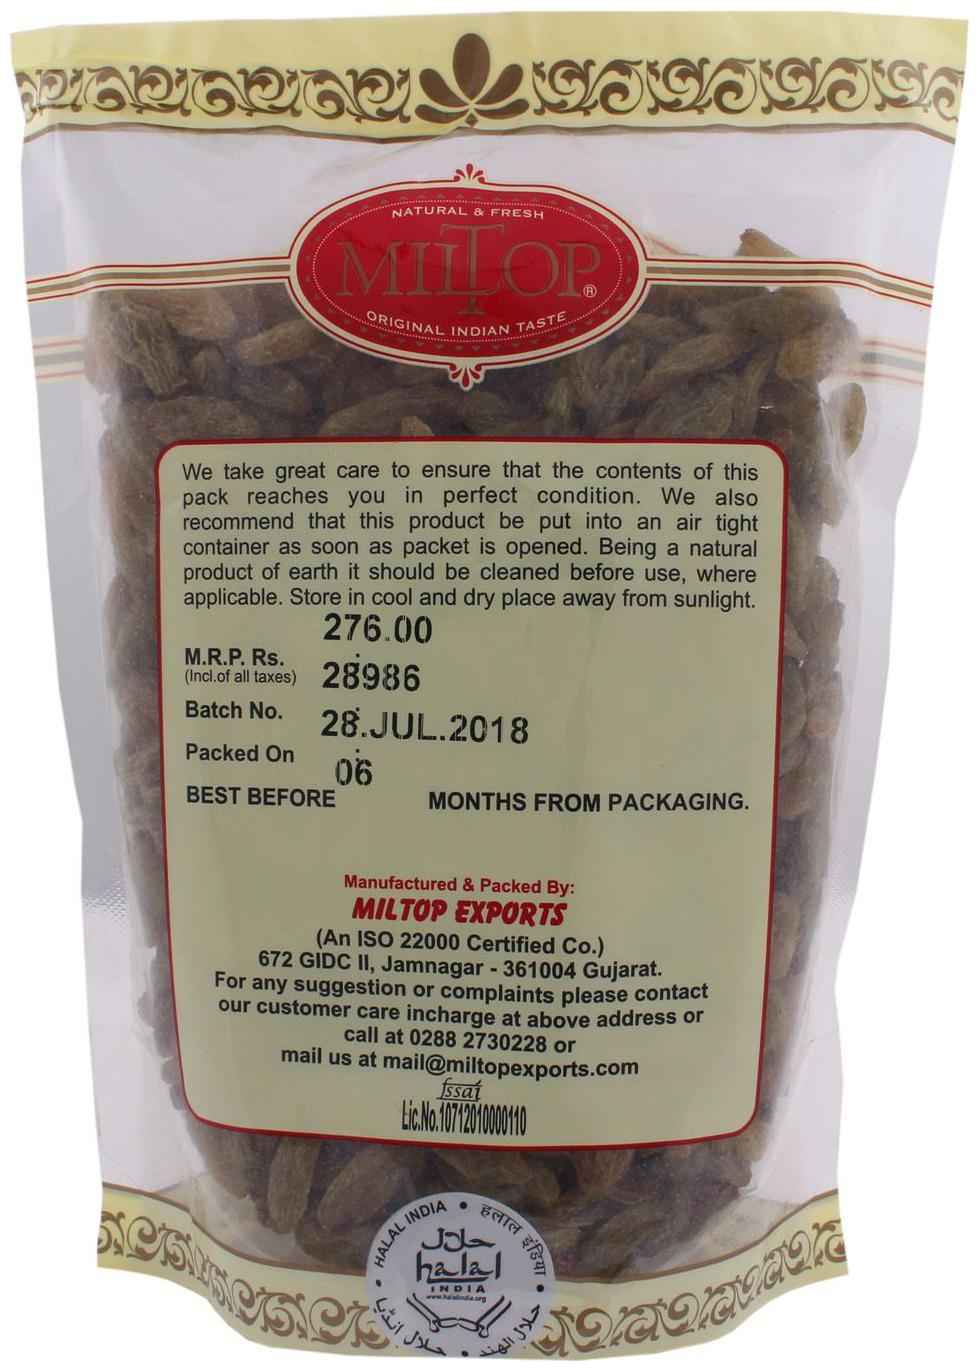fssai: (437, 1076, 484, 1101)
